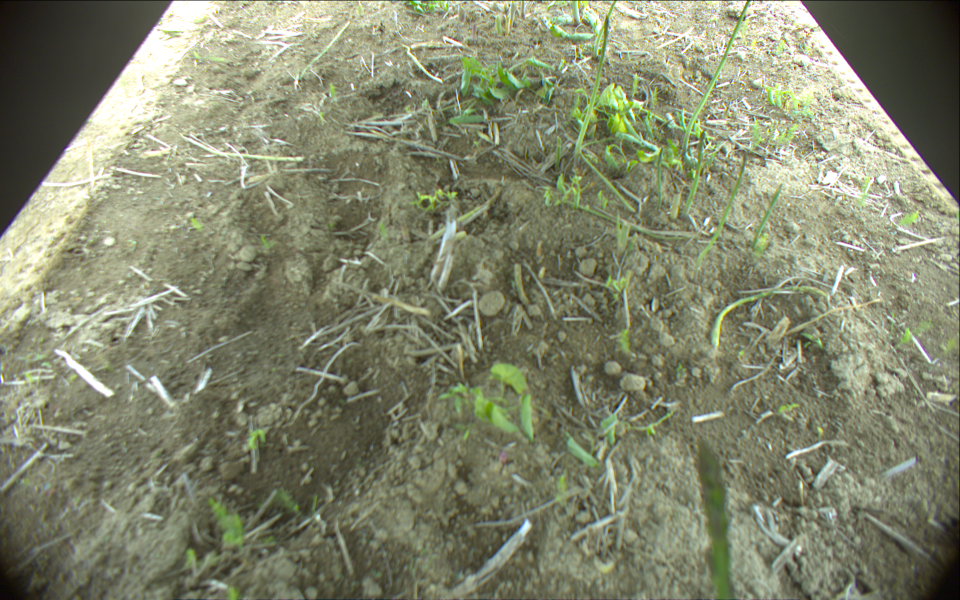aspa: (682, 1, 754, 158), (695, 435, 738, 600), (713, 284, 829, 345), (571, 14, 612, 169), (700, 155, 747, 265), (581, 137, 636, 213), (684, 130, 705, 217), (754, 185, 782, 248), (596, 1, 618, 57), (658, 147, 665, 216), (569, 1, 585, 26), (552, 137, 561, 174), (495, 18, 504, 34), (518, 1, 526, 18)
